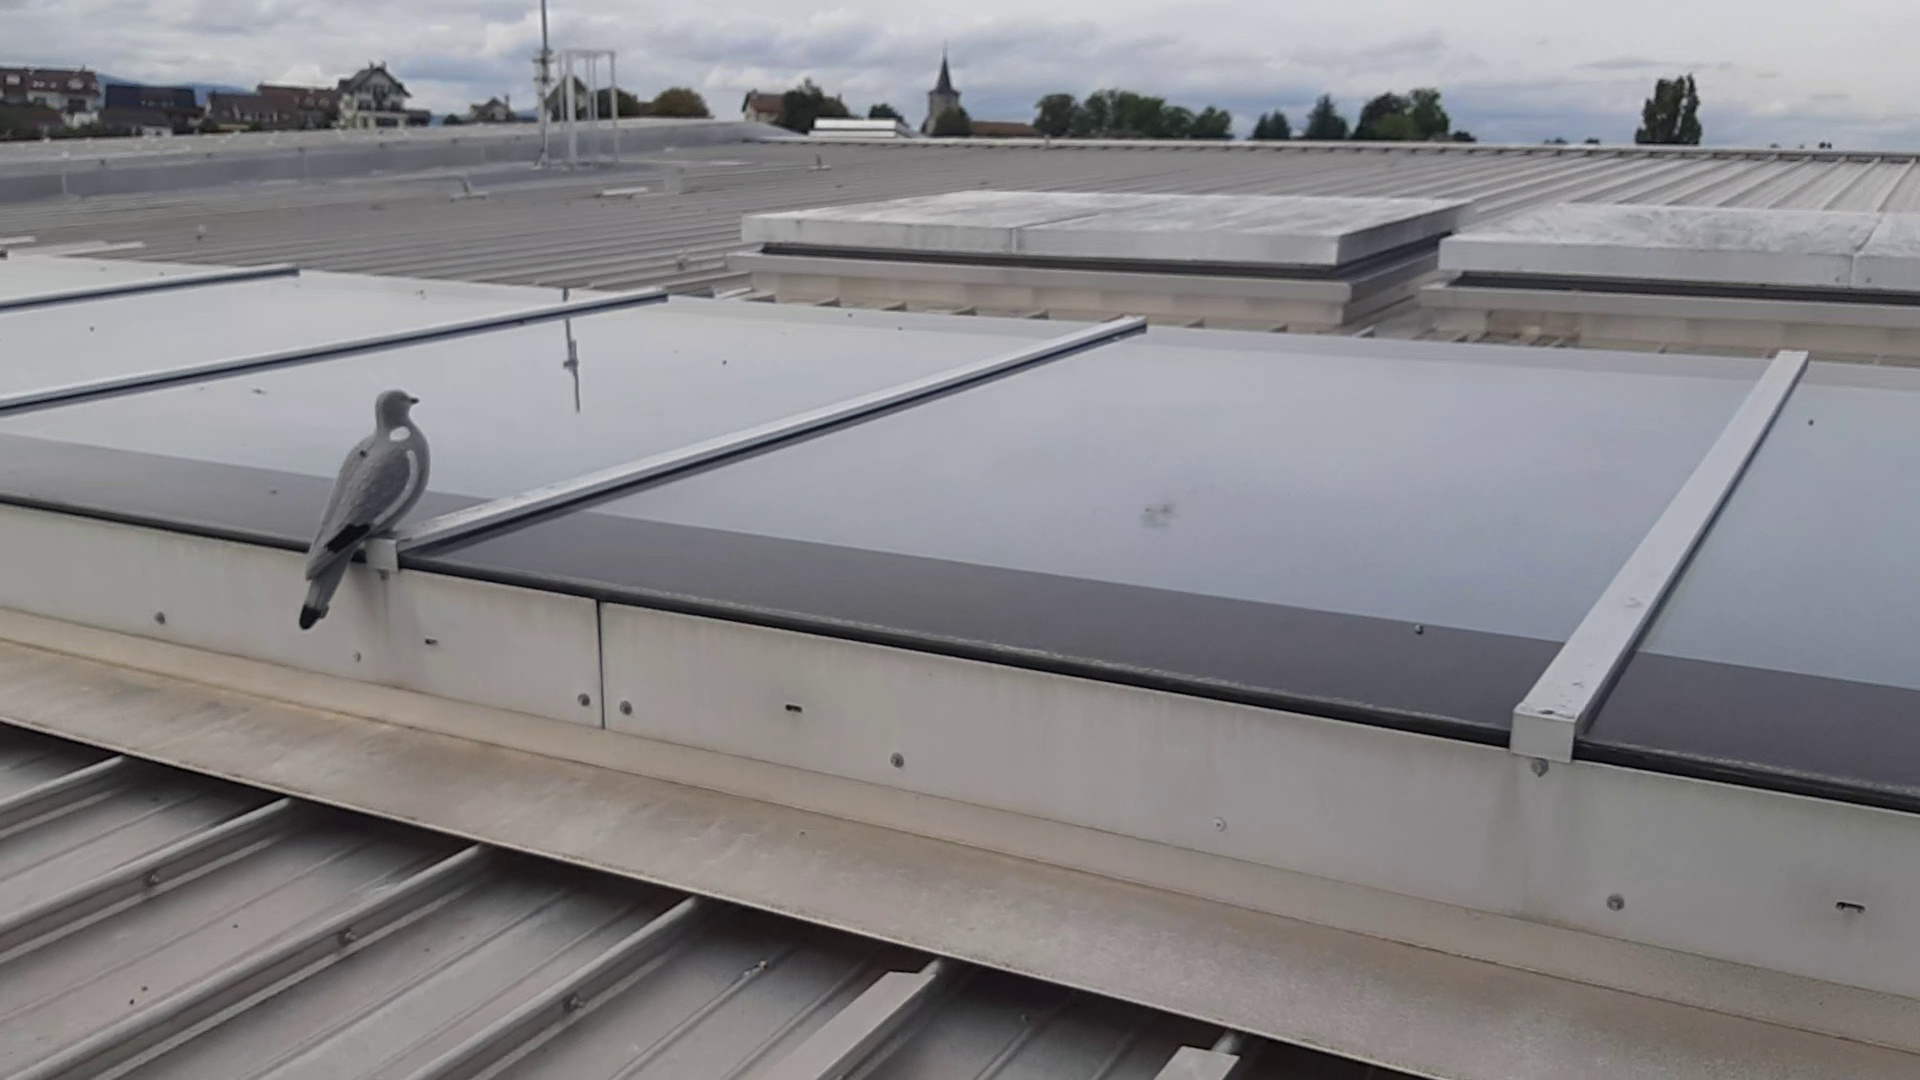Pigeon: (301, 386, 436, 601)
